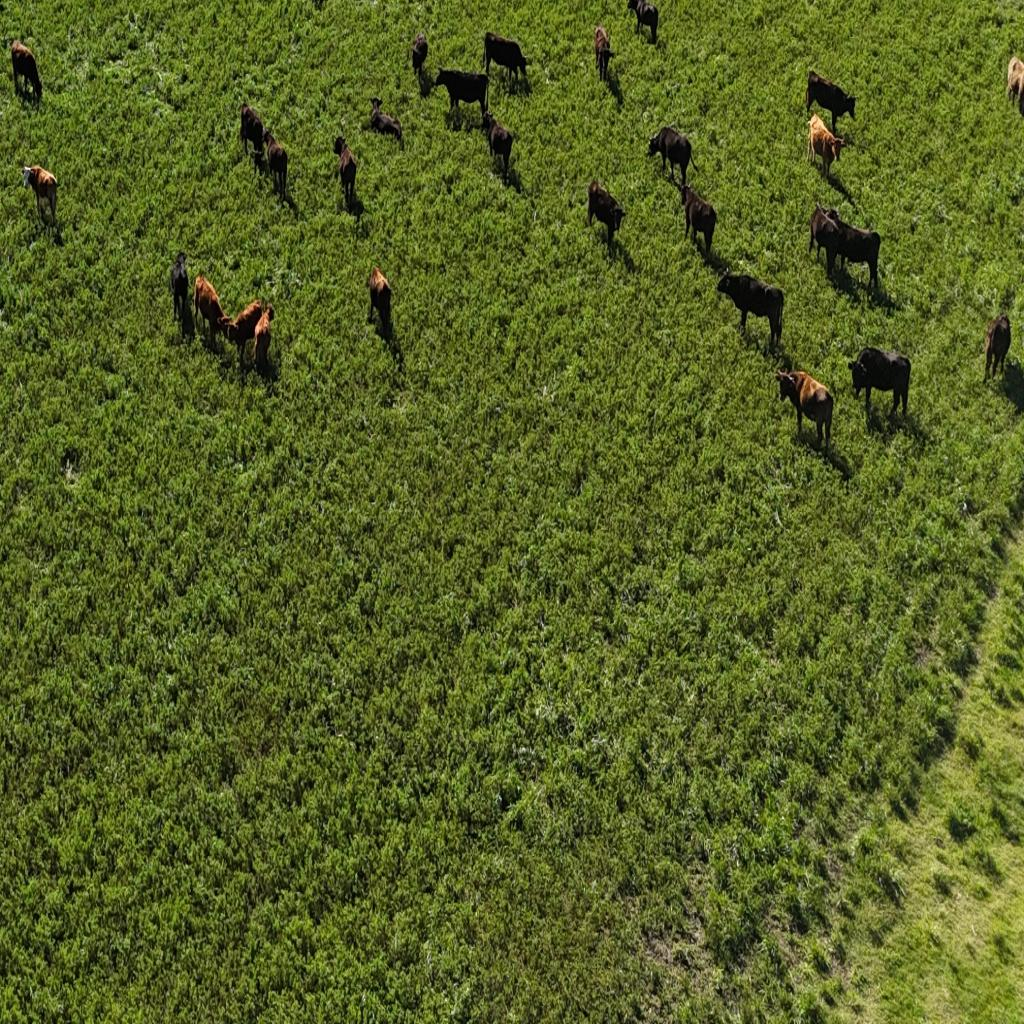cow: (776, 365, 836, 447), (724, 269, 786, 346), (847, 344, 911, 417), (830, 216, 882, 292), (220, 299, 266, 375), (434, 65, 490, 123), (806, 68, 856, 130), (587, 178, 626, 252), (809, 202, 848, 276), (806, 111, 847, 181), (368, 262, 400, 351), (192, 273, 228, 346), (651, 124, 694, 185), (22, 160, 58, 229), (682, 182, 716, 255), (483, 29, 527, 84), (482, 107, 514, 179), (10, 36, 42, 104), (368, 96, 406, 150), (983, 312, 1011, 384), (168, 248, 192, 330), (263, 129, 288, 200), (253, 302, 275, 382), (240, 100, 265, 162), (336, 138, 357, 210), (628, 0, 660, 43), (594, 20, 615, 84), (1005, 56, 1024, 116), (411, 29, 428, 79)
